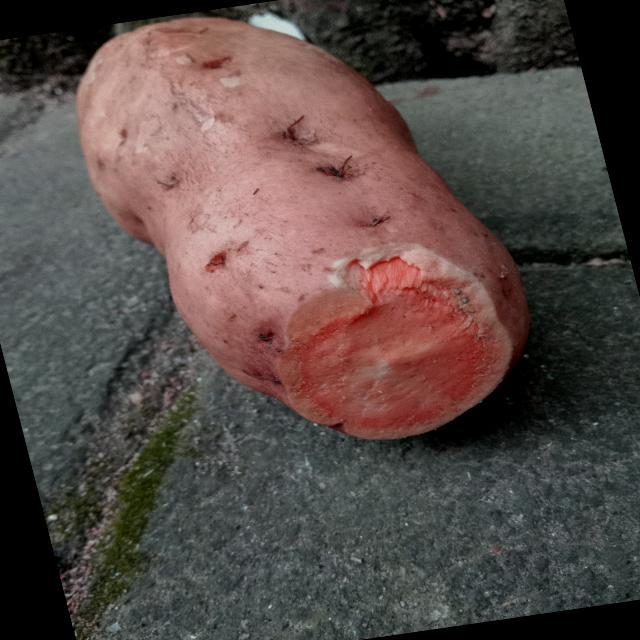Healthy Sweet Potato: (280, 258, 488, 439)
